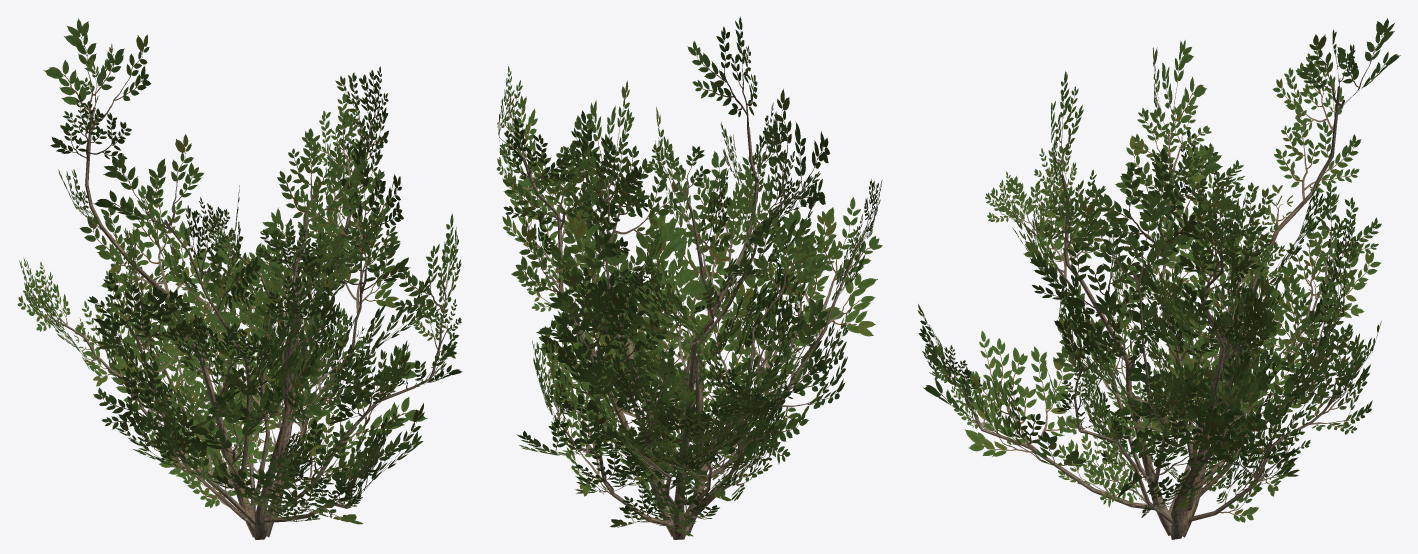
File: bush2_l0.glb
3 views of the same model, side by side, from view 1: azimuth 30°, elevation 25°; view 2: azimuth 150°, elevation 25°; view 3: azimuth 270°, elevation 25° (orthographic). The views are drawn at different scales.
Parts seen in each view (by area): view 1: Bush_big_002_LOD0_Brunch_material_0, Bush_big_002_LOD0_Bark_material_0; view 2: Bush_big_002_LOD0_Brunch_material_0, Bush_big_002_LOD0_Bark_material_0; view 3: Bush_big_002_LOD0_Brunch_material_0, Bush_big_002_LOD0_Bark_material_0.
Part boxes in pixels (x1,y1,x2,y2): Bush_big_002_LOD0_Brunch_material_0: (17, 18, 462, 524); Bush_big_002_LOD0_Bark_material_0: (60, 107, 443, 539); Bush_big_002_LOD0_Brunch_material_0: (496, 16, 882, 536); Bush_big_002_LOD0_Bark_material_0: (523, 127, 864, 539); Bush_big_002_LOD0_Brunch_material_0: (917, 18, 1400, 522); Bush_big_002_LOD0_Bark_material_0: (958, 86, 1340, 539).
Bounding box in the file's own units: 1.24 × 1.6 × 1.47.
2 materials, 2 textured.
